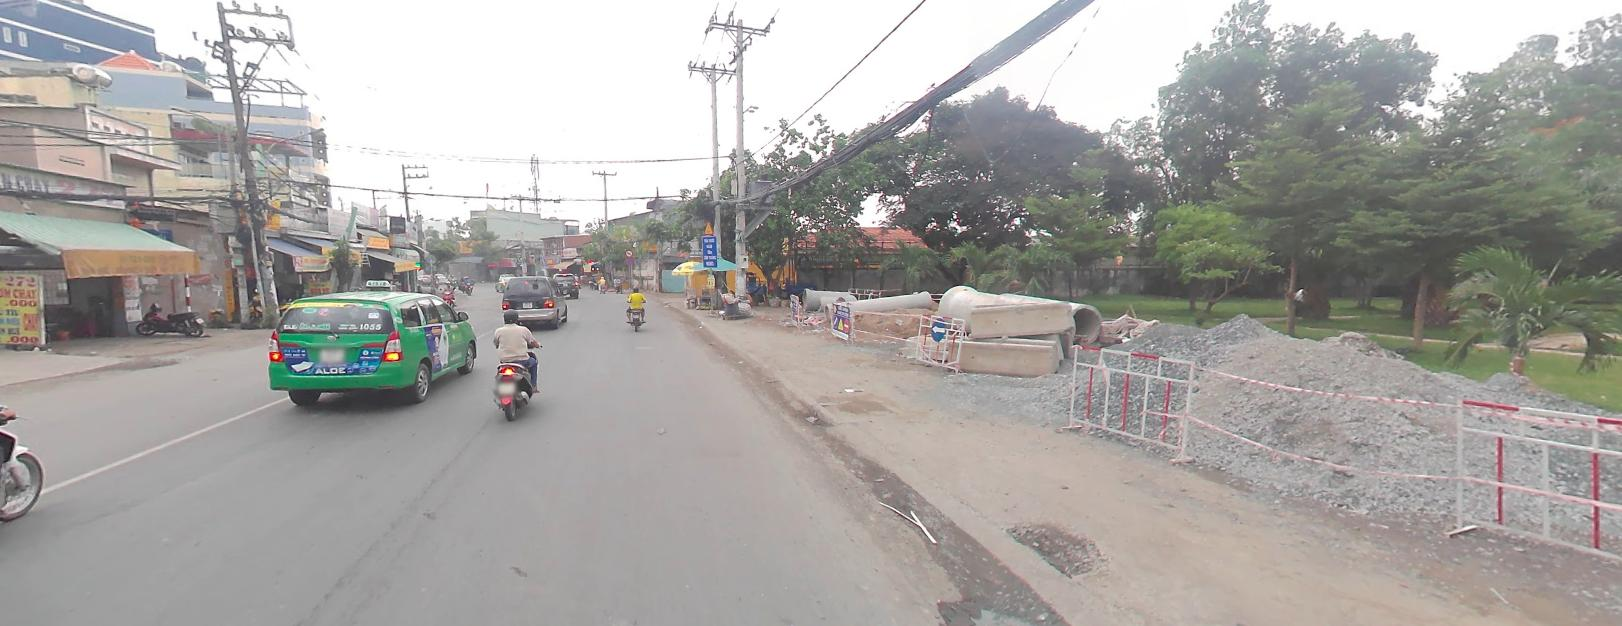Cam con lai: (625, 247, 632, 255)
Cam dung va do: (625, 256, 633, 262)
Nguy hiem: (703, 220, 714, 233)
